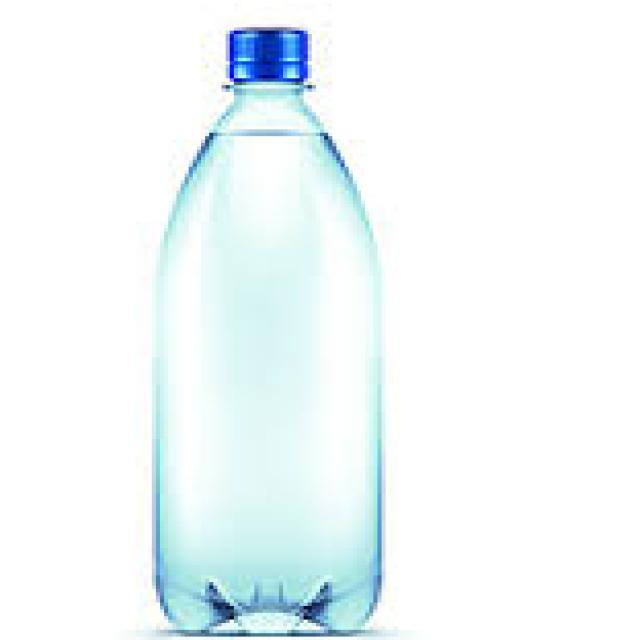organic: (124, 16, 421, 632)
